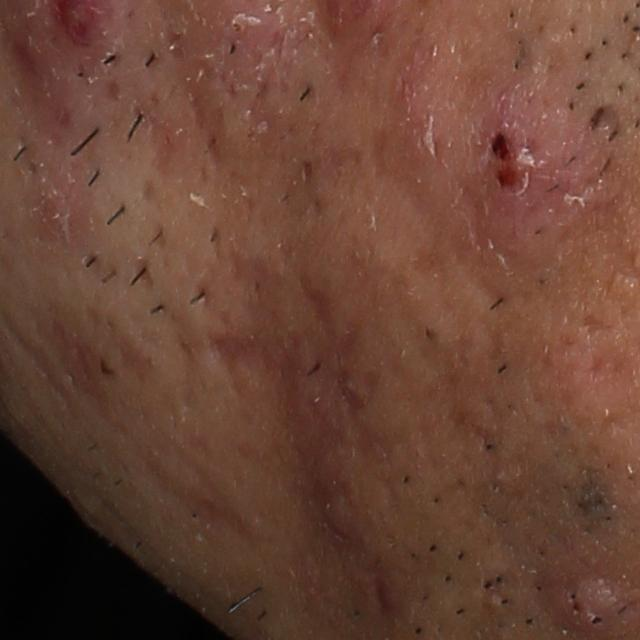atrophic_scar: (204, 329, 299, 406), (301, 271, 336, 334), (587, 100, 624, 144), (582, 310, 609, 338)
nevus: (563, 465, 620, 542)
